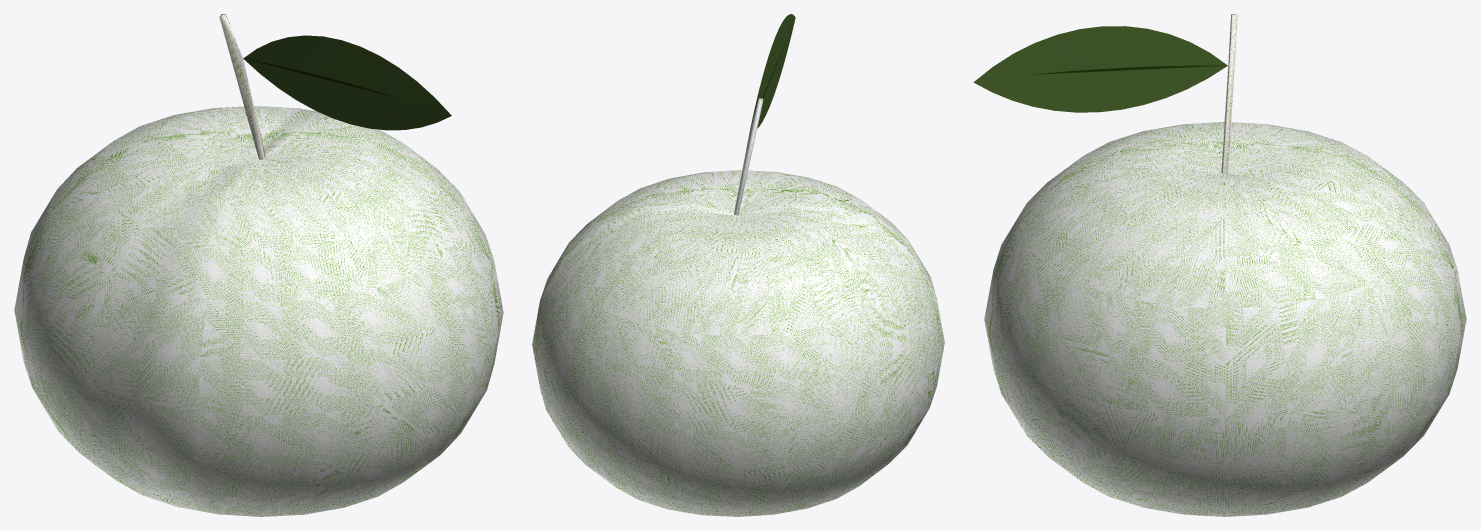
File: greenApple.fbx
3 views of the same model, side by side, from view 1: azimuth 30°, elevation 25°; view 2: azimuth 150°, elevation 25°; view 3: azimuth 270°, elevation 25° (orthographic). The views are drawn at different scales.
Visible parts, largest first — view 1: Componente_1_1; view 2: Componente_1_1; view 3: Componente_1_1.
Boxes of the visible parts, left/top/right/bottom form: Componente_1_1: left=14, top=14, right=503, bottom=516; Componente_1_1: left=532, top=14, right=944, bottom=516; Componente_1_1: left=973, top=14, right=1466, bottom=516.
Bounding box in the file's own units: 11.46 × 12.38 × 12.03.
